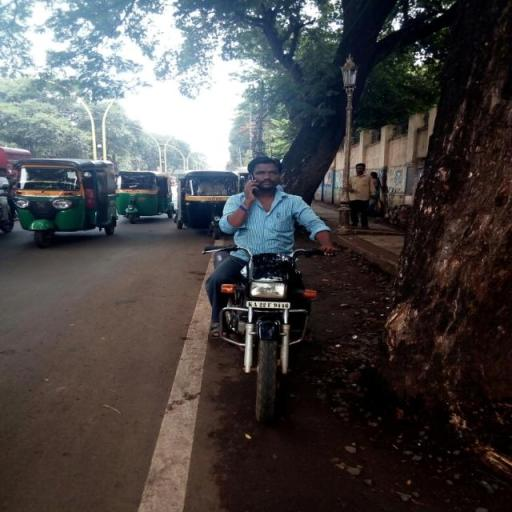bike: (199, 154, 340, 380)
numberplate: (245, 300, 292, 310)
using mobile: (246, 174, 256, 196)
withouthelmet: (250, 157, 282, 189)
